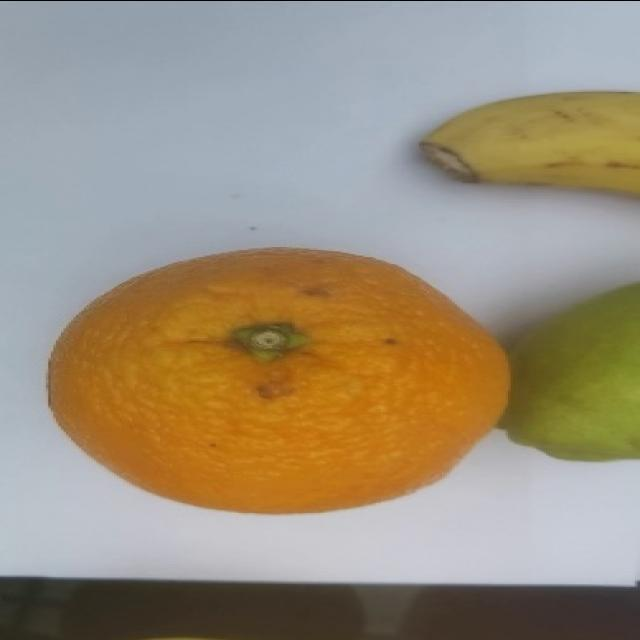Banana: (418, 89, 639, 198)
Orange: (46, 245, 512, 515)
